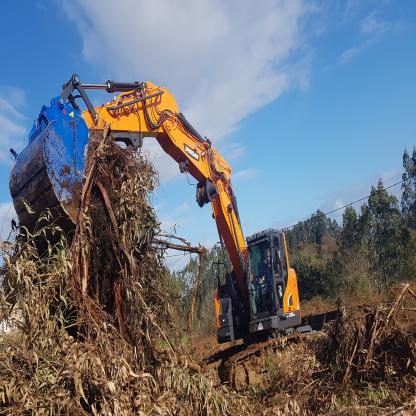excavator: (9, 56, 334, 381)
